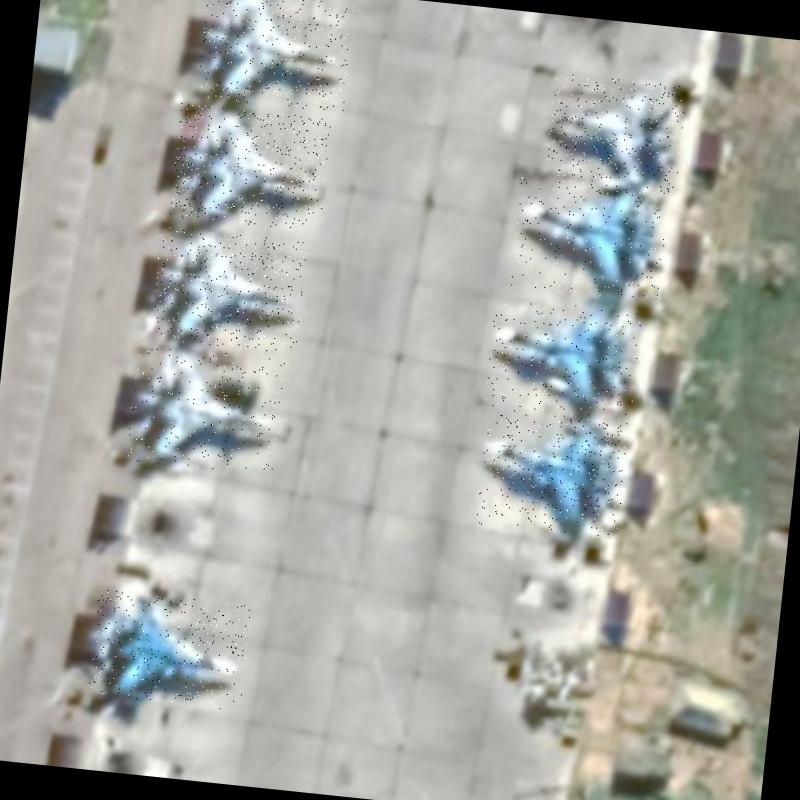A1: (169, 102, 331, 233), (125, 343, 284, 475), (149, 226, 307, 354), (196, 0, 354, 112), (544, 72, 686, 192)
A19: (476, 403, 630, 538), (510, 176, 670, 302), (88, 588, 250, 710), (484, 296, 642, 416)
